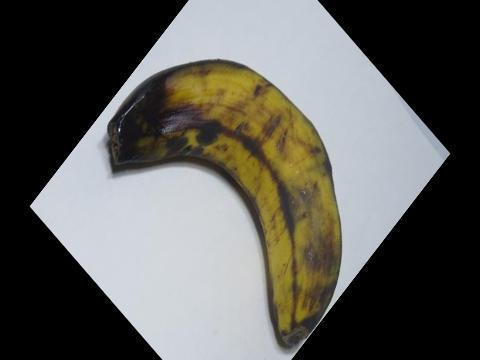overripe: (95, 49, 358, 359)
rotten: (88, 72, 195, 179)
